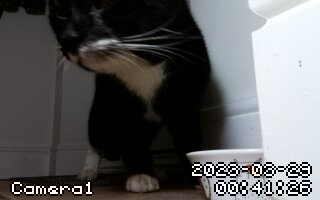bad: (41, 1, 233, 190)
